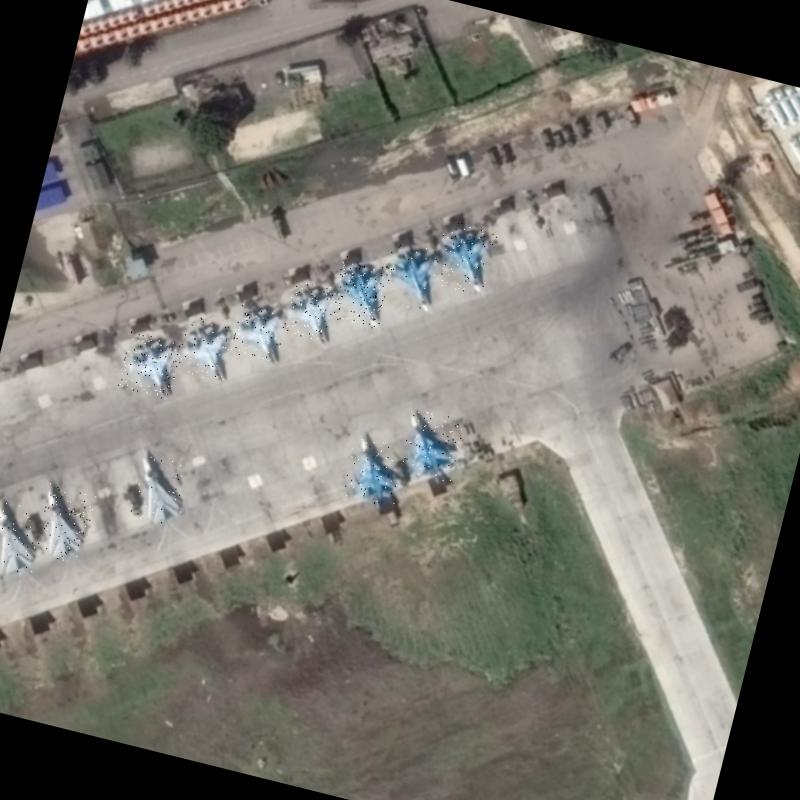A1: (117, 331, 182, 400), (174, 313, 236, 382), (230, 303, 288, 364), (282, 278, 337, 342)
A19: (377, 238, 446, 314), (430, 218, 497, 296), (396, 407, 465, 482), (340, 432, 408, 508), (327, 254, 393, 330)
A20: (123, 451, 194, 530), (29, 482, 96, 565), (0, 499, 47, 582)
